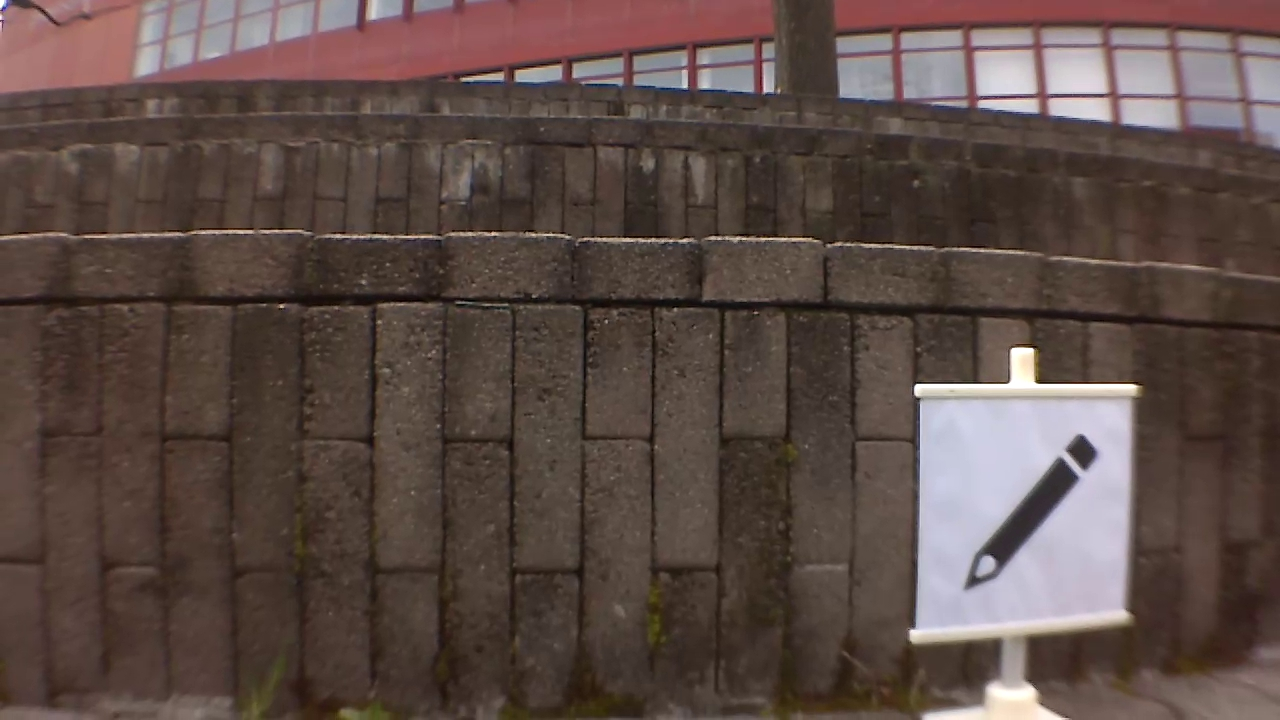pencil: (966, 432, 1101, 594)
